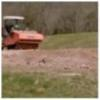tractors: (2, 12, 46, 55)
